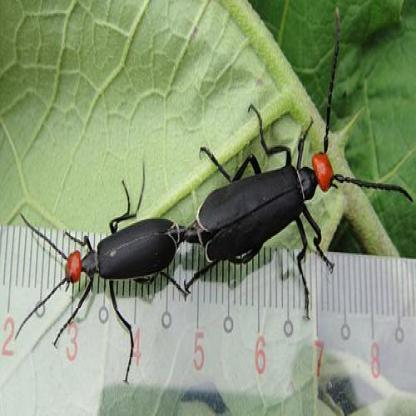beetle: (193, 100, 360, 304), (27, 188, 189, 281)
